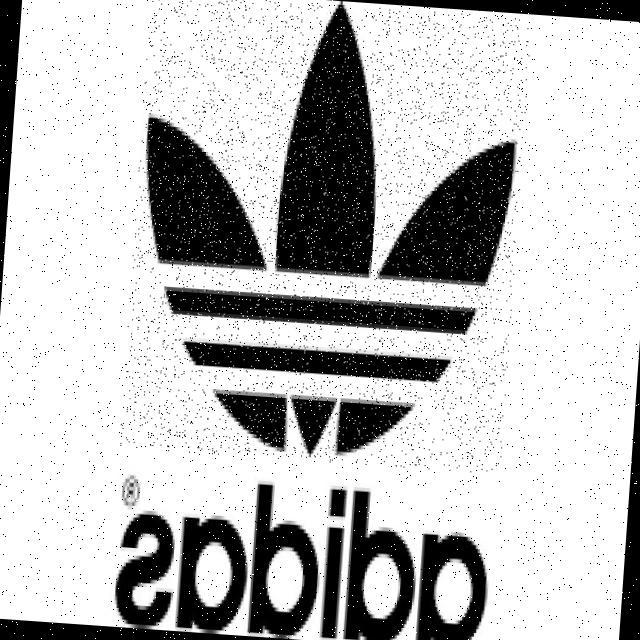Adidas: (118, 0, 531, 474)
